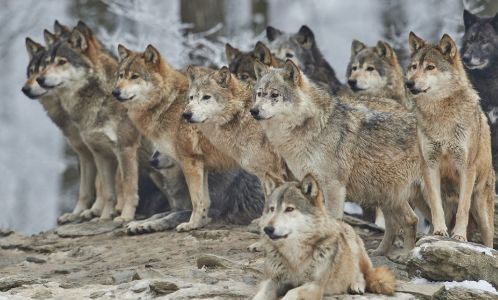wolf: (246, 66, 427, 232), (403, 30, 496, 242), (255, 170, 389, 297), (109, 40, 170, 173), (36, 24, 124, 113), (182, 62, 246, 160), (344, 34, 405, 101), (269, 21, 330, 70), (218, 40, 272, 85), (21, 38, 46, 121)
